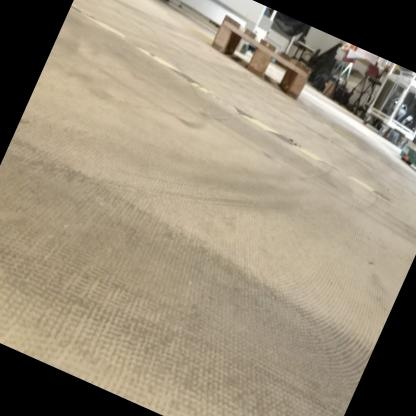BoxFace: (207, 11, 318, 107)
